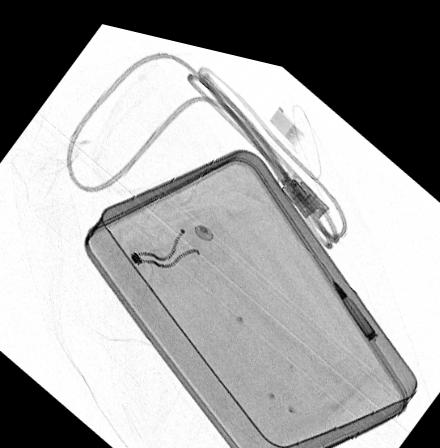Bullet: (329, 257, 377, 324)
